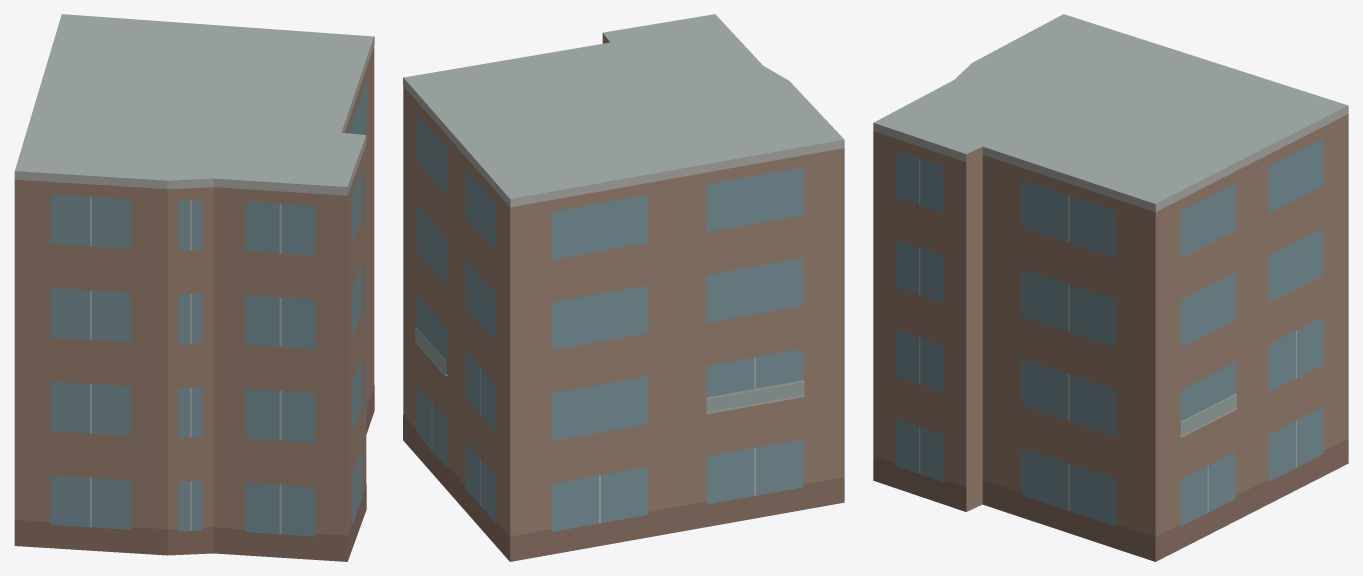
Rendered from survey-upis-32493029.glb.
3 views of the same model, side by side, from view 1: azimuth 30°, elevation 25°; view 2: azimuth 150°, elevation 25°; view 3: azimuth 270°, elevation 25° (orthographic). The views are drawn at different scales.
Parts seen in each view (by area): view 1: survey-upis-32493029.tmp; view 2: survey-upis-32493029.tmp; view 3: survey-upis-32493029.tmp.
Part boxes in pixels (<box>): survey-upis-32493029.tmp: <box>14,14,374,561</box>; survey-upis-32493029.tmp: <box>403,14,844,561</box>; survey-upis-32493029.tmp: <box>873,14,1348,561</box>.
Bounding box in the file's own units: 12.14 × 10.65 × 12.83.
